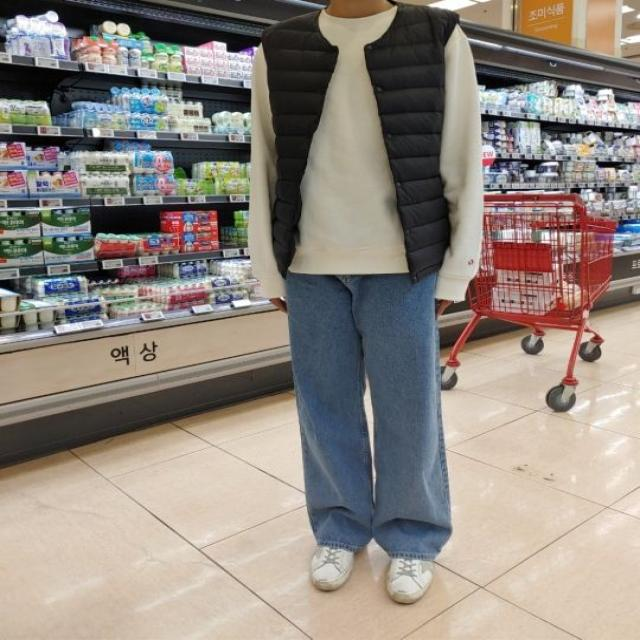denimpants: (290, 271, 451, 559)
longsleeve: (245, 9, 480, 305)
padding: (261, 9, 457, 281)
